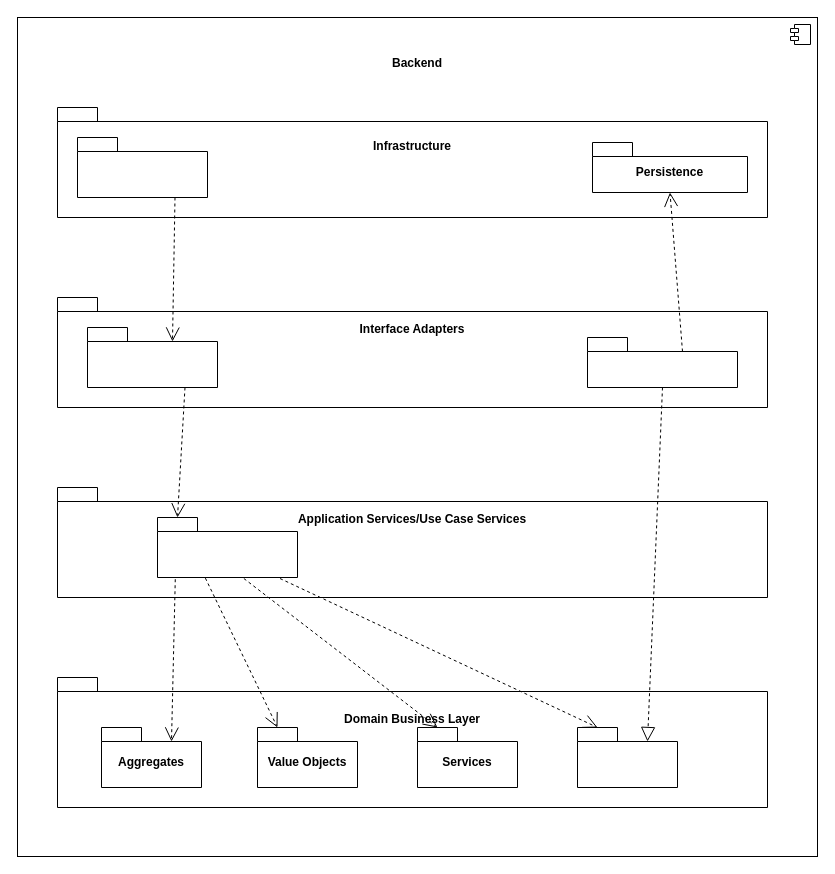
Image size: 835x874. Some labels were removed from this diagram. Here are the shapes that lost their labels. From the top down, the centre of each, then its label:
At point (142, 167): "Routes".
At point (152, 357): "Controllers".
At point (662, 362): "Repositories".
At point (227, 547): "App Services".
At point (627, 757): "IRepositories".
